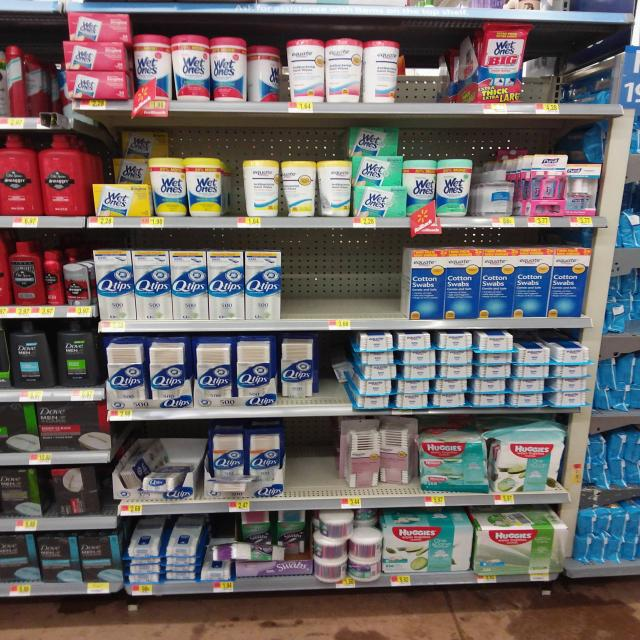unorganised: (121, 440, 168, 493), (381, 420, 418, 484), (247, 43, 282, 102), (280, 345, 316, 397), (207, 543, 287, 563), (142, 463, 194, 492), (120, 130, 170, 158), (61, 263, 92, 306), (110, 157, 151, 184), (207, 473, 257, 495), (336, 362, 347, 383)
